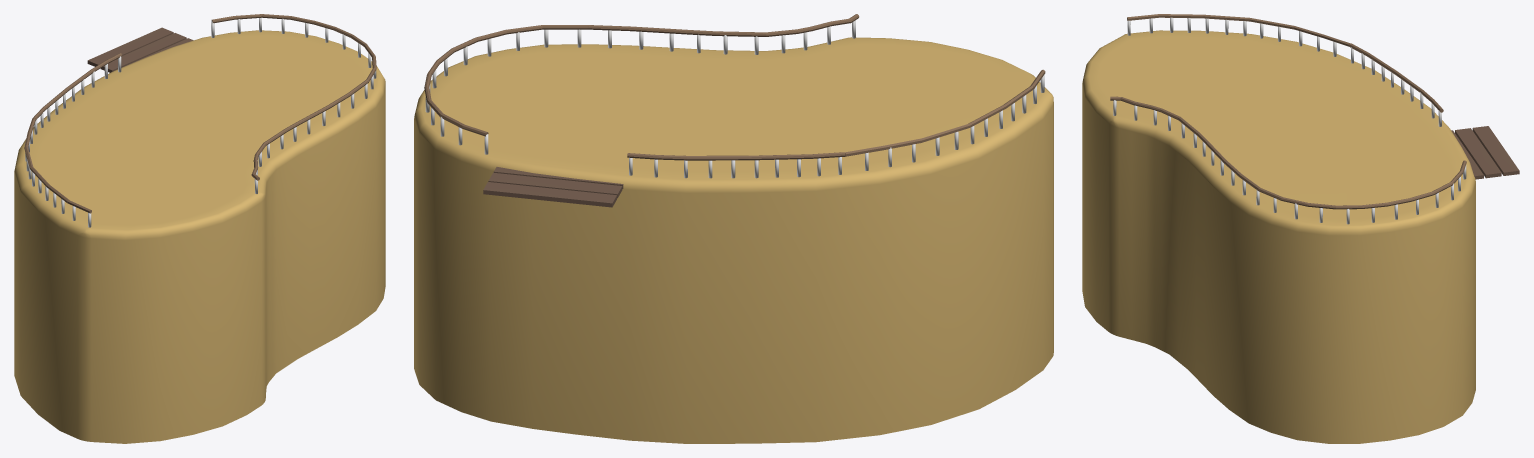
The model's file is Map_02_Cutter.fbx.
3 renders of one model, left to right at view 1: azimuth 30°, elevation 25°; view 2: azimuth 150°, elevation 25°; view 3: azimuth 270°, elevation 25°, orthographic. The views are drawn at different scales.
Visible parts, largest first — view 1: Map_Land_02_Cutter, Map_Land_02_Cutter_1; view 2: Map_Land_02_Cutter, Map_Land_02_Cutter_1; view 3: Map_Land_02_Cutter, Map_Land_02_Cutter_1.
Boxes of the visible parts, x1=… form: Map_Land_02_Cutter: x1=14, y1=14, x2=385, y2=443; Map_Land_02_Cutter_1: x1=24, y1=118, x2=69, y2=213; Map_Land_02_Cutter: x1=414, y1=14, x2=1053, y2=443; Map_Land_02_Cutter_1: x1=845, y1=85, x2=1033, y2=170; Map_Land_02_Cutter: x1=1082, y1=14, x2=1519, y2=443; Map_Land_02_Cutter_1: x1=1159, y1=14, x2=1349, y2=56.
Size of the model in its own units: 57.31 by 31.23 by 52.8.
